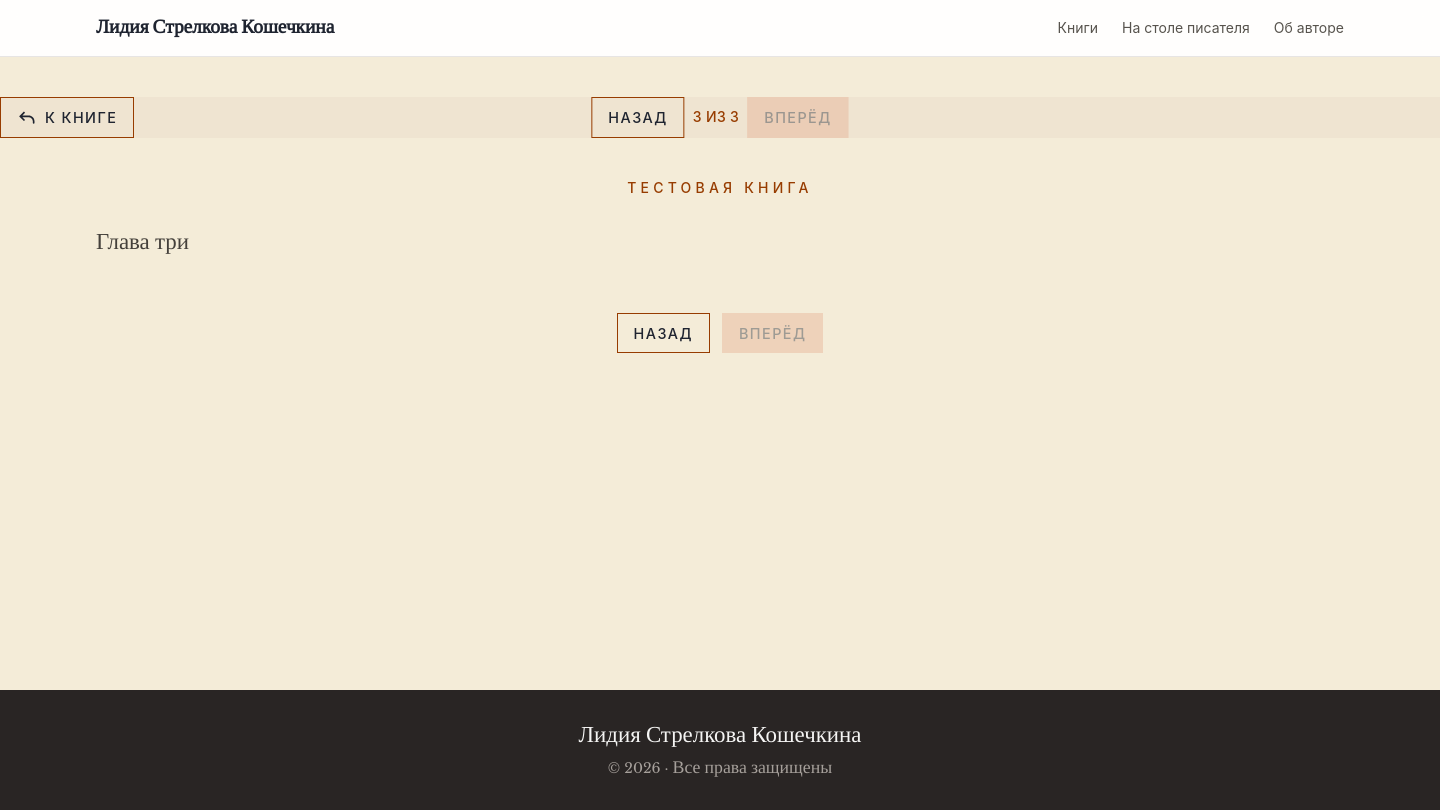
Test case: Fragment › navigates to the previous chapter
Click the button "Назад" in the row of "из".
click(638, 117)  # box [591,97,685,138]
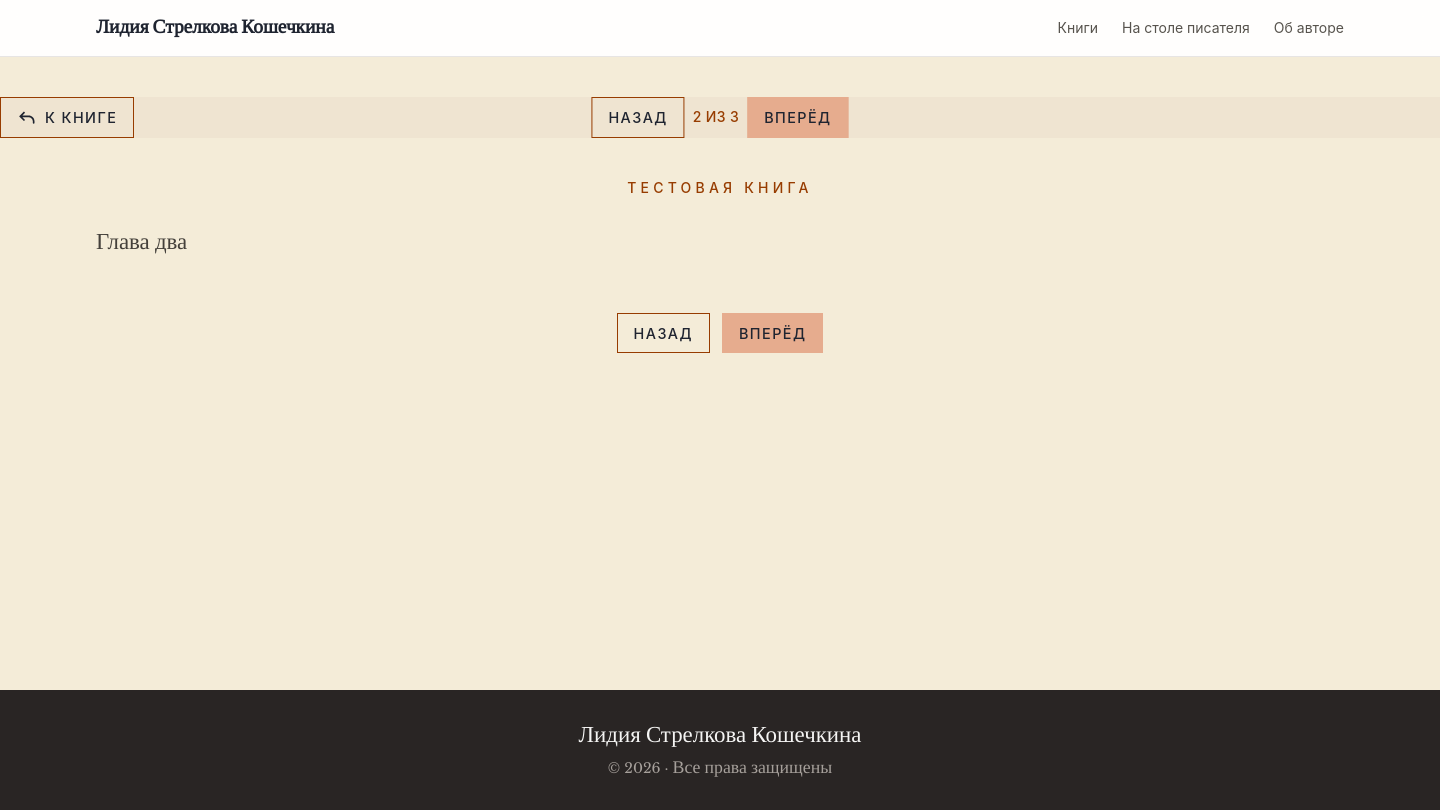
Expected: the text "2 из 3" is shown, [693,107,739,127]
